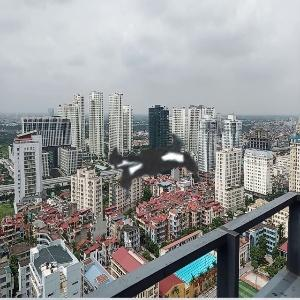drone: (19, 33, 283, 297)
